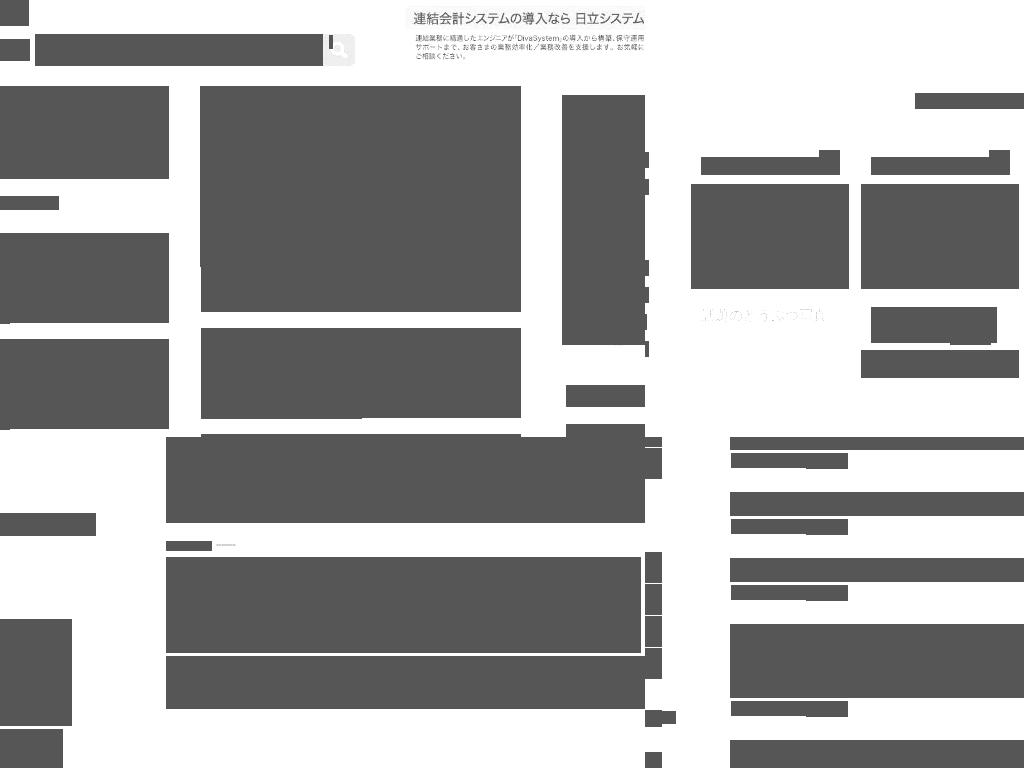button: (201, 86, 521, 312), (201, 328, 521, 418), (730, 624, 1024, 698), (0, 233, 169, 323), (0, 339, 169, 429), (730, 740, 1024, 768), (730, 492, 1024, 516), (730, 558, 1024, 582), (915, 93, 1024, 109), (806, 453, 848, 469), (806, 519, 848, 535), (806, 585, 848, 601), (806, 701, 848, 717), (950, 329, 991, 345)
field: (35, 34, 323, 66)
heading: (166, 557, 641, 653), (730, 624, 1024, 696), (730, 740, 1024, 768), (0, 106, 169, 154), (747, 492, 1024, 514), (747, 558, 1024, 580), (645, 91, 837, 114), (0, 154, 169, 179), (0, 86, 169, 106), (701, 157, 839, 175), (871, 157, 1009, 175), (566, 385, 645, 407), (166, 541, 212, 551), (662, 711, 676, 724), (730, 499, 740, 509), (730, 565, 740, 575), (730, 631, 740, 641), (730, 747, 740, 757)
iframe: (562, 95, 645, 345), (405, 6, 645, 66)
image: (200, 86, 521, 267), (691, 184, 849, 289), (861, 184, 1019, 289), (201, 328, 362, 419), (819, 150, 840, 175), (989, 150, 1010, 175), (329, 35, 333, 49)
link: (871, 307, 997, 343), (701, 307, 827, 323), (566, 424, 645, 437)
text: (166, 656, 645, 709), (201, 274, 521, 312), (369, 335, 521, 411), (17, 355, 169, 413), (0, 619, 72, 726), (17, 259, 169, 297), (0, 729, 63, 768), (861, 350, 1019, 364), (861, 364, 1019, 378), (0, 513, 96, 536), (731, 453, 801, 468), (731, 519, 801, 534), (731, 585, 801, 600), (731, 701, 801, 716), (0, 196, 59, 210), (0, 39, 30, 61), (205, 90, 235, 106), (205, 332, 235, 348), (800, 453, 807, 468), (800, 519, 807, 534), (800, 585, 807, 600), (800, 701, 807, 716)
